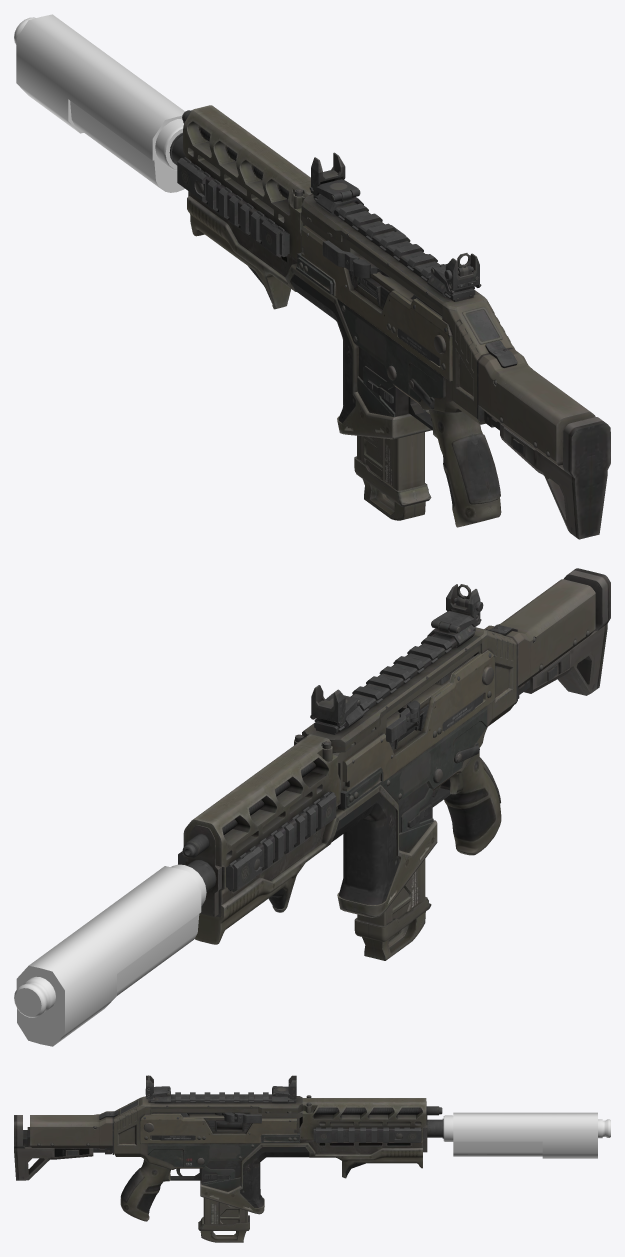
Rendered from apex_hemlok.glb.
3 views of the same model, one above another, from view 1: azimuth 30°, elevation 25°; view 2: azimuth 150°, elevation 25°; view 3: azimuth 270°, elevation 25° (orthographic). The views are drawn at different scales.
Visible parts, largest first — view 1: body__tex_apex_hemlok_1, barrel__polymer_4, mag__tex_apex_hemlok_2, irons__tex_apex_hemlok_3; view 2: body__tex_apex_hemlok_1, barrel__polymer_4, mag__tex_apex_hemlok_2, irons__tex_apex_hemlok_3; view 3: body__tex_apex_hemlok_1, barrel__polymer_4, mag__tex_apex_hemlok_2, irons__tex_apex_hemlok_3, cycle__tex_apex_hemlok_m0.
Part boxes in pixels (bbox=[...]): body__tex_apex_hemlok_1: bbox=[169, 105, 610, 539]; barrel__polymer_4: bbox=[14, 14, 184, 192]; mag__tex_apex_hemlok_2: bbox=[354, 432, 431, 520]; irons__tex_apex_hemlok_3: bbox=[309, 152, 481, 297]; body__tex_apex_hemlok_1: bbox=[178, 568, 610, 944]; barrel__polymer_4: bbox=[14, 864, 206, 1046]; mag__tex_apex_hemlok_2: bbox=[354, 859, 431, 960]; irons__tex_apex_hemlok_3: bbox=[310, 584, 483, 728]; body__tex_apex_hemlok_1: bbox=[14, 1092, 443, 1221]; barrel__polymer_4: bbox=[443, 1112, 610, 1158]; mag__tex_apex_hemlok_2: bbox=[198, 1197, 249, 1242]; irons__tex_apex_hemlok_3: bbox=[145, 1075, 296, 1103]; cycle__tex_apex_hemlok_m0: bbox=[187, 1112, 261, 1123].
Bounding box in the file's own units: 0.069 × 0.2943 × 0.9741.
Materials: 2 (1 with a texture image).
